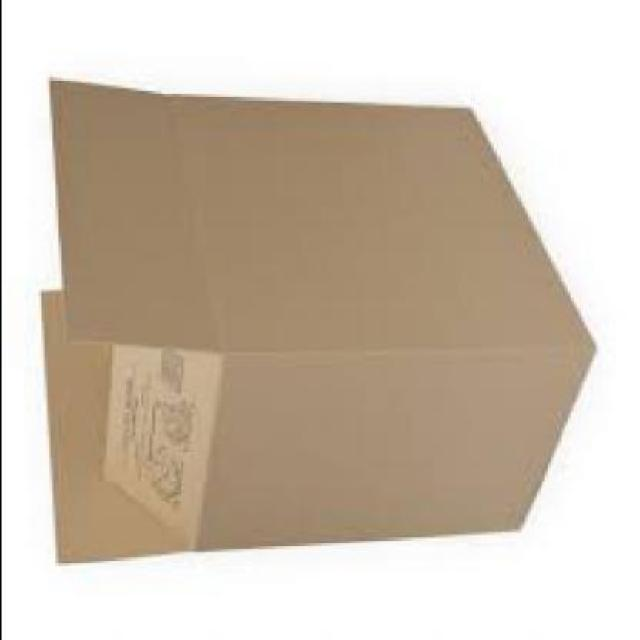CARDBOARD: (34, 82, 588, 568), (179, 109, 592, 358), (191, 356, 586, 556), (40, 288, 194, 566), (49, 82, 196, 356)
